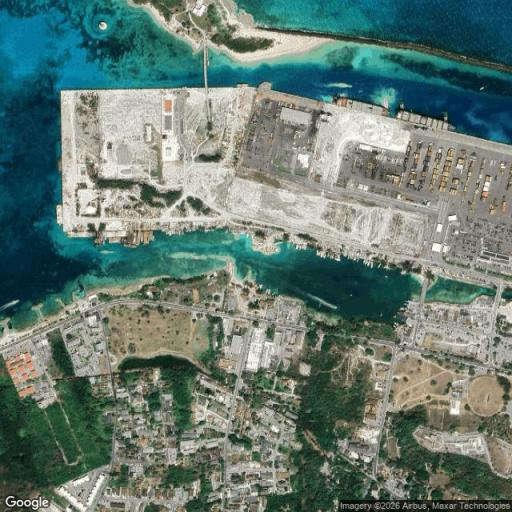ship: (396, 103, 454, 131), (332, 94, 389, 116), (95, 229, 153, 247), (121, 230, 153, 247), (0, 300, 19, 311), (56, 205, 63, 226), (58, 157, 62, 172), (365, 260, 372, 267), (361, 259, 368, 265), (394, 320, 400, 327), (236, 84, 249, 87), (364, 260, 370, 266), (371, 262, 373, 270)
